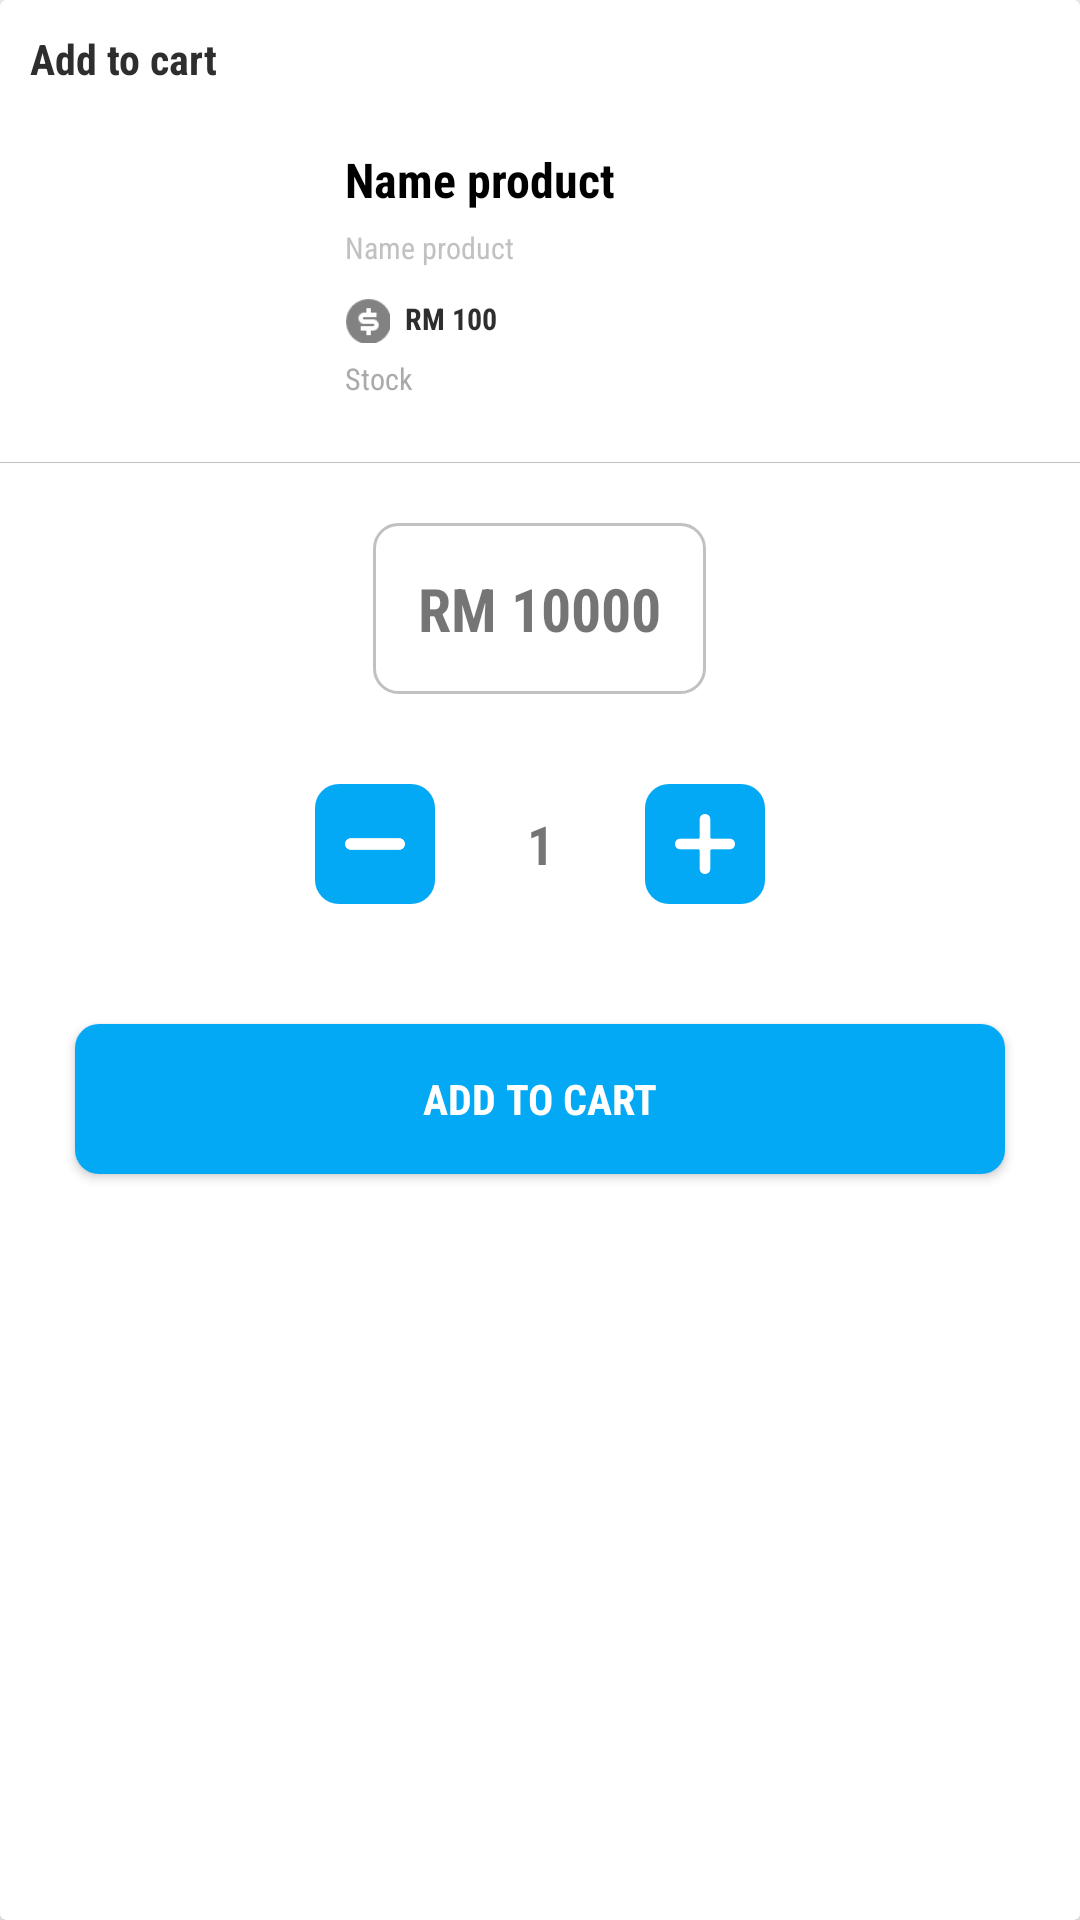

Locate icon controls on the screen. Image size 1080×1920, boxes as (x1, y1, x2, y2).
currency: (346, 299, 390, 343)
minus: (315, 784, 435, 904)
plus: (645, 784, 765, 904)
